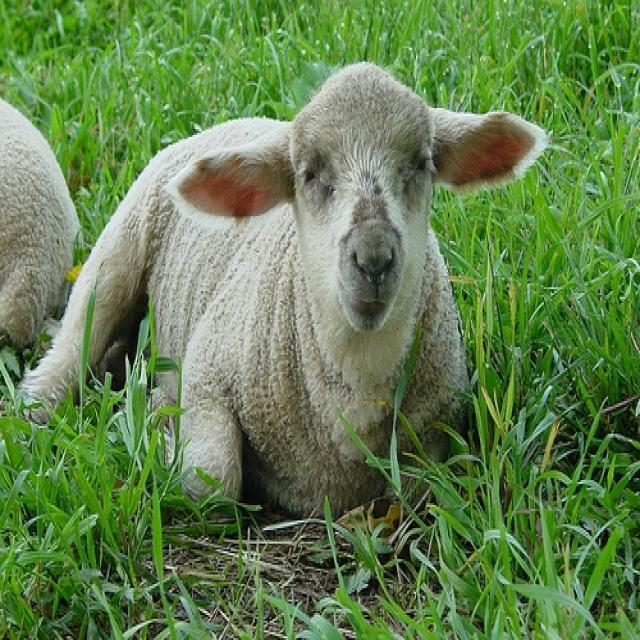sheep: (32, 65, 536, 522)
